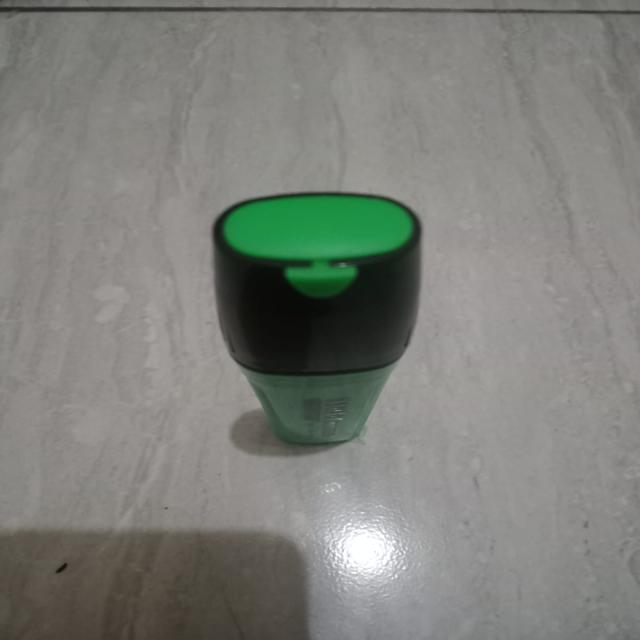highlighter: (181, 174, 435, 466)
